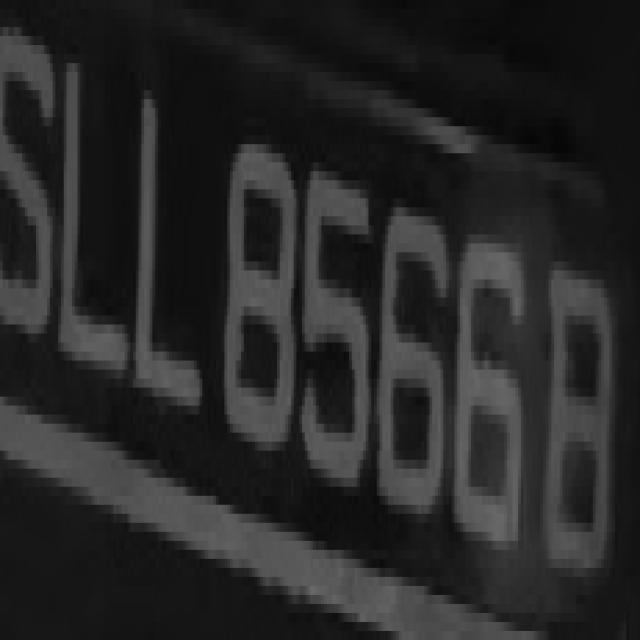5: (288, 135, 371, 514)
6: (371, 180, 449, 550), (454, 216, 526, 577)
8: (219, 99, 296, 478)
B: (543, 234, 612, 595)
L: (128, 63, 214, 451), (56, 54, 128, 397)
S: (6, 27, 58, 388)
